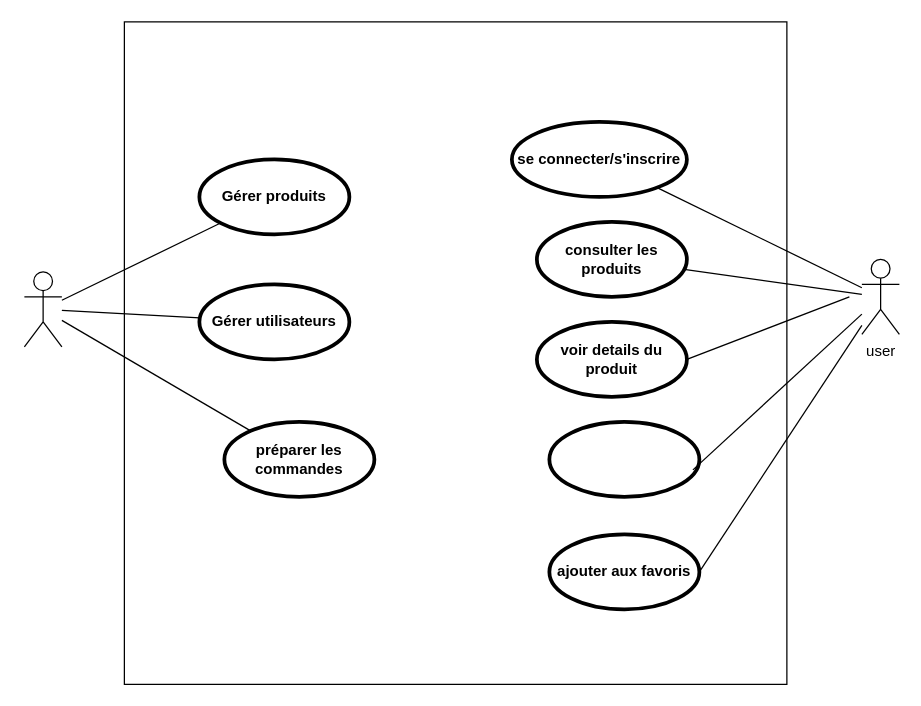
Some shapes in this 921 by 706 pixel diagram are drawn without their labels. The shapes that lost their labels are listed below. From the top down, each one's box as (x1, y1, x2, y2) in pixels, then its label:
(23, 271, 62, 347): Admin
(547, 419, 701, 498): ajouter aux panier
